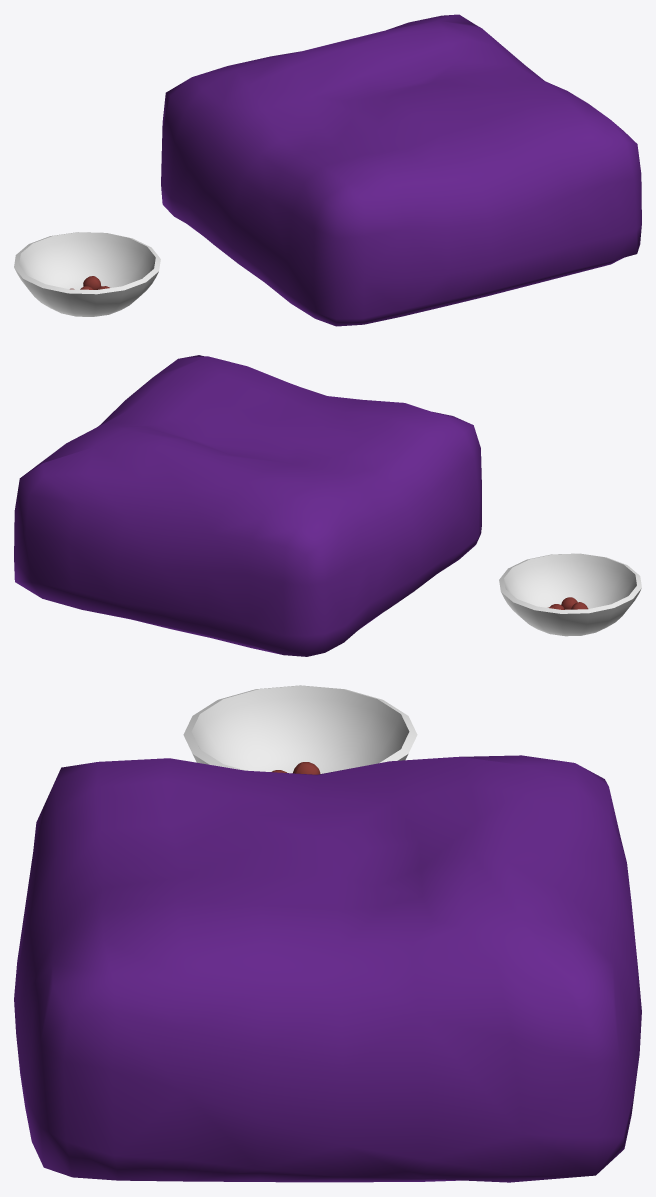
The model's file is CatCushionAndBowl.fbx.
The picture shows the model from 3 angles, top to bottom: view 1: azimuth 30°, elevation 25°; view 2: azimuth 150°, elevation 25°; view 3: azimuth 270°, elevation 25°; orthographic projection. The views are drawn at different scales.
Visible parts, largest first — view 1: Retopo_Catcushion.001; view 2: Retopo_Catcushion.001; view 3: Retopo_Catcushion.001.
Part boxes in pixels (<box>): Retopo_Catcushion.001: <box>14,14,641,326</box>; Retopo_Catcushion.001: <box>14,355,641,656</box>; Retopo_Catcushion.001: <box>14,685,641,1182</box>.
Size of the model in its own units: 72.49 by 18.41 by 44.68.
